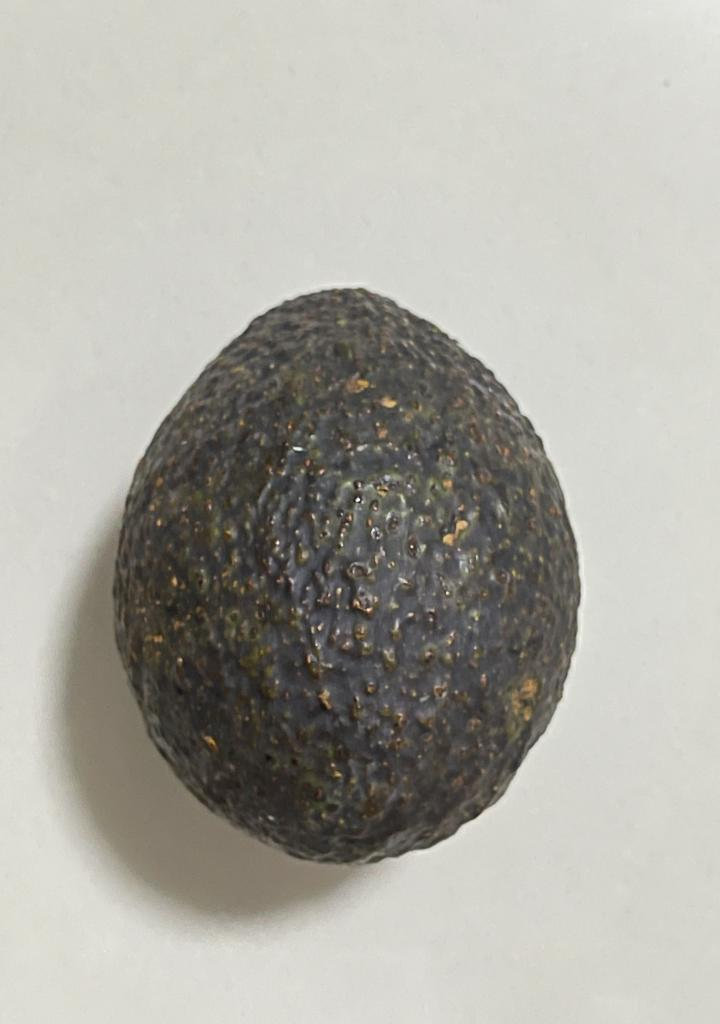Level2: (102, 277, 588, 874)
